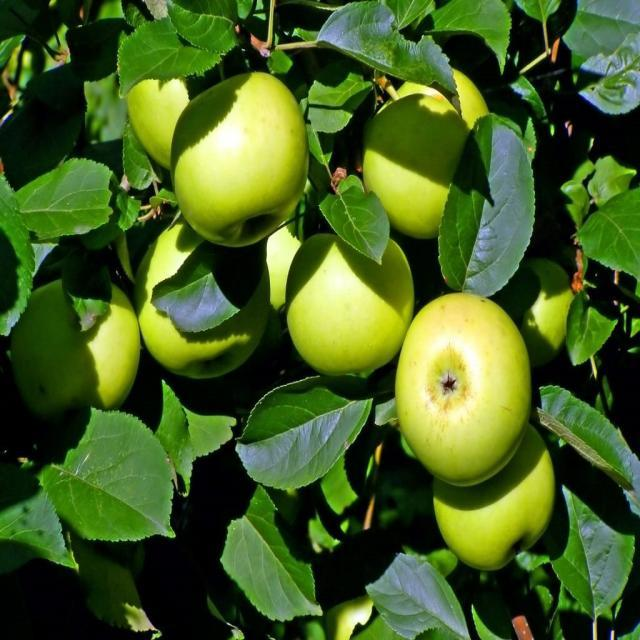Green Apple: (397, 296, 534, 471), (170, 70, 300, 236), (366, 69, 495, 225), (138, 219, 267, 373), (292, 224, 410, 377), (437, 436, 556, 577), (22, 277, 135, 420), (513, 250, 577, 359), (122, 59, 198, 150)
